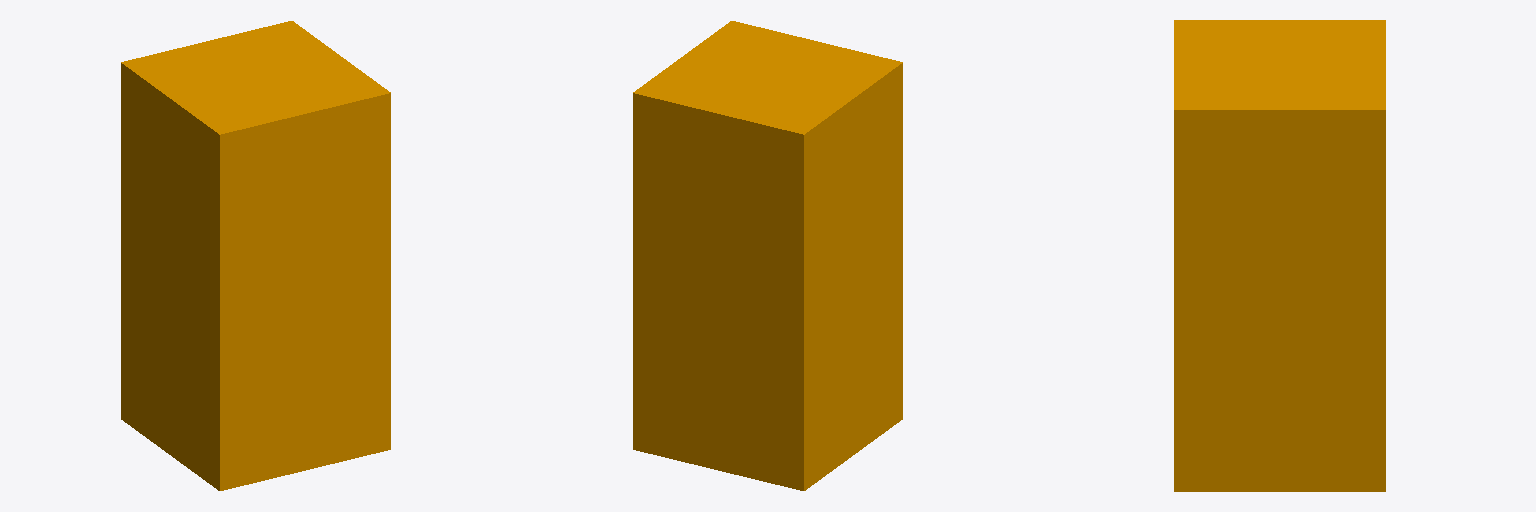
URDF robot description (1_2I_1):
<robot name="1_2I_1">
  <link name="link">
    <visual>
      <geometry>
        <mesh filename="1_2I_1.obj" scale="1 1 1"/>
      </geometry>
    </visual>
    <collision>
      <geometry>
        <mesh filename="1_2I_1.obj" scale="1 1 1"/>
      </geometry>
    </collision>
    <inertial>
      <mass value="1"/>
      <inertia ixx="1" iyy="1" izz="1" ixy="0" ixz="0" iyz="0"/>
      <origin xyz="0 0 0" rpy="0 0 0"/>
    </inertial>
  </link>
</robot>

--- Render facts (derived) ---
Views: 3 orthographic renders of the robot side by side, from view 1: azimuth 30°, elevation 25°; view 2: azimuth 150°, elevation 25°; view 3: azimuth 270°, elevation 25°.
Model 1_2I_1 with 1 links and 0 joints (none), rooted at link, posed every joint at zero.
Links seen in each view (by area): view 1: link; view 2: link; view 3: link.
Boxes of the visible links, box(x1,y1,x2,y2) form: link: box(121, 21, 390, 490); link: box(633, 21, 902, 490); link: box(1174, 20, 1385, 491).
Bounding box of the posed robot: 0.0591 × 0.0591 × 0.1175 m (x, y, z).
Meshes: 1 distinct files referenced, 1 mesh visuals loaded (1 OBJ).